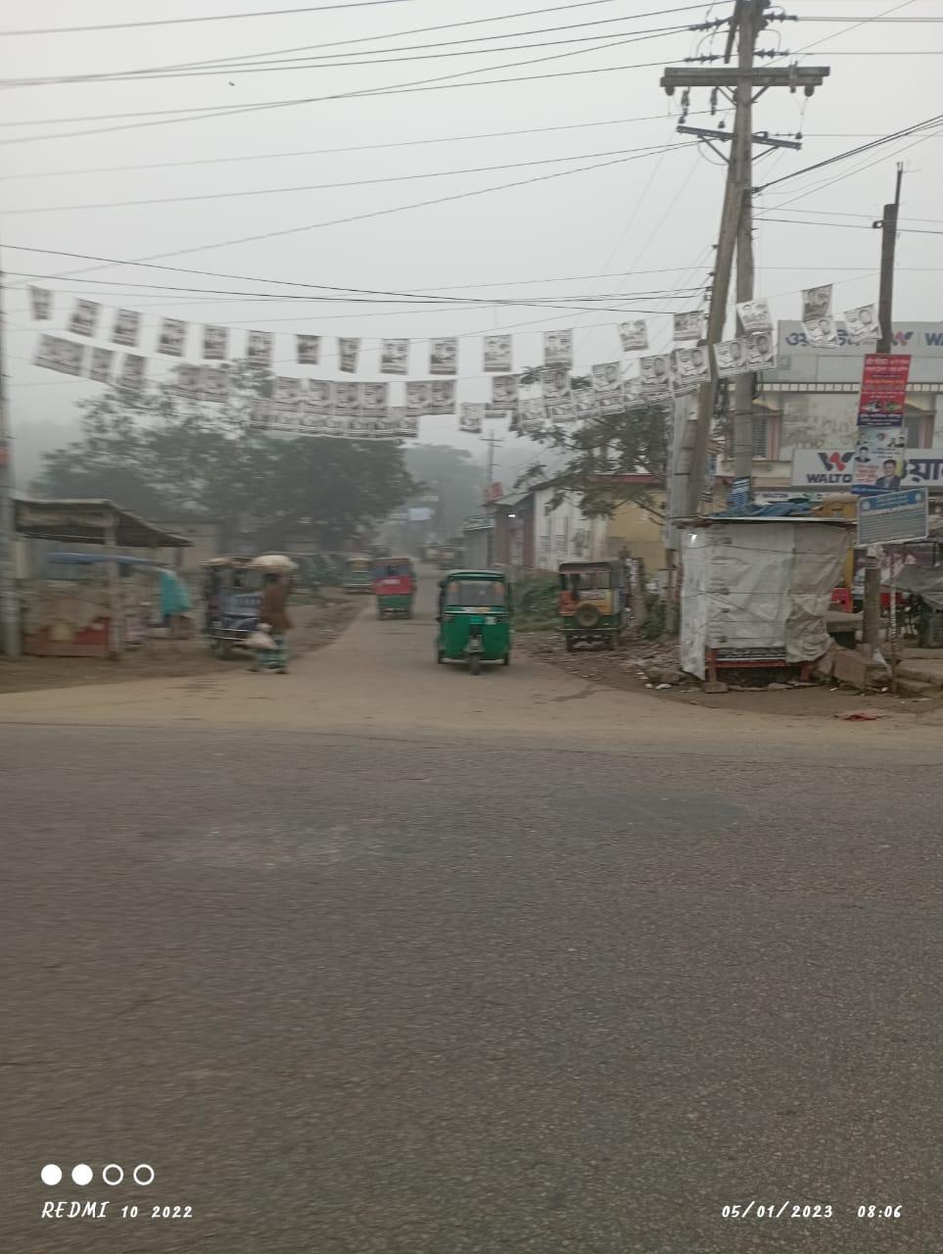Car: (196, 546, 287, 657), (548, 554, 636, 657), (365, 550, 420, 630)
